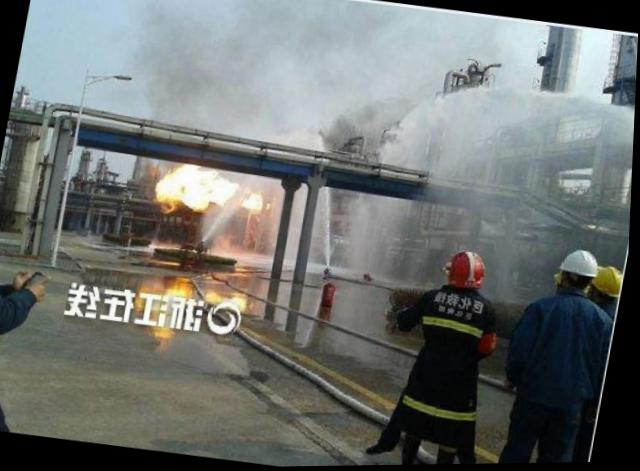fire: (156, 161, 234, 213), (244, 189, 270, 213), (172, 277, 194, 298), (232, 291, 251, 309), (208, 290, 225, 303)
smoke: (120, 0, 404, 158), (398, 4, 536, 96)
